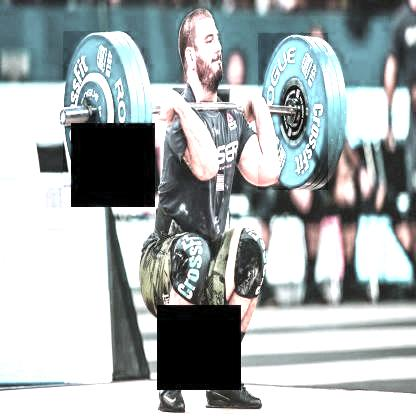barbell: (64, 32, 131, 196), (260, 33, 329, 190)
